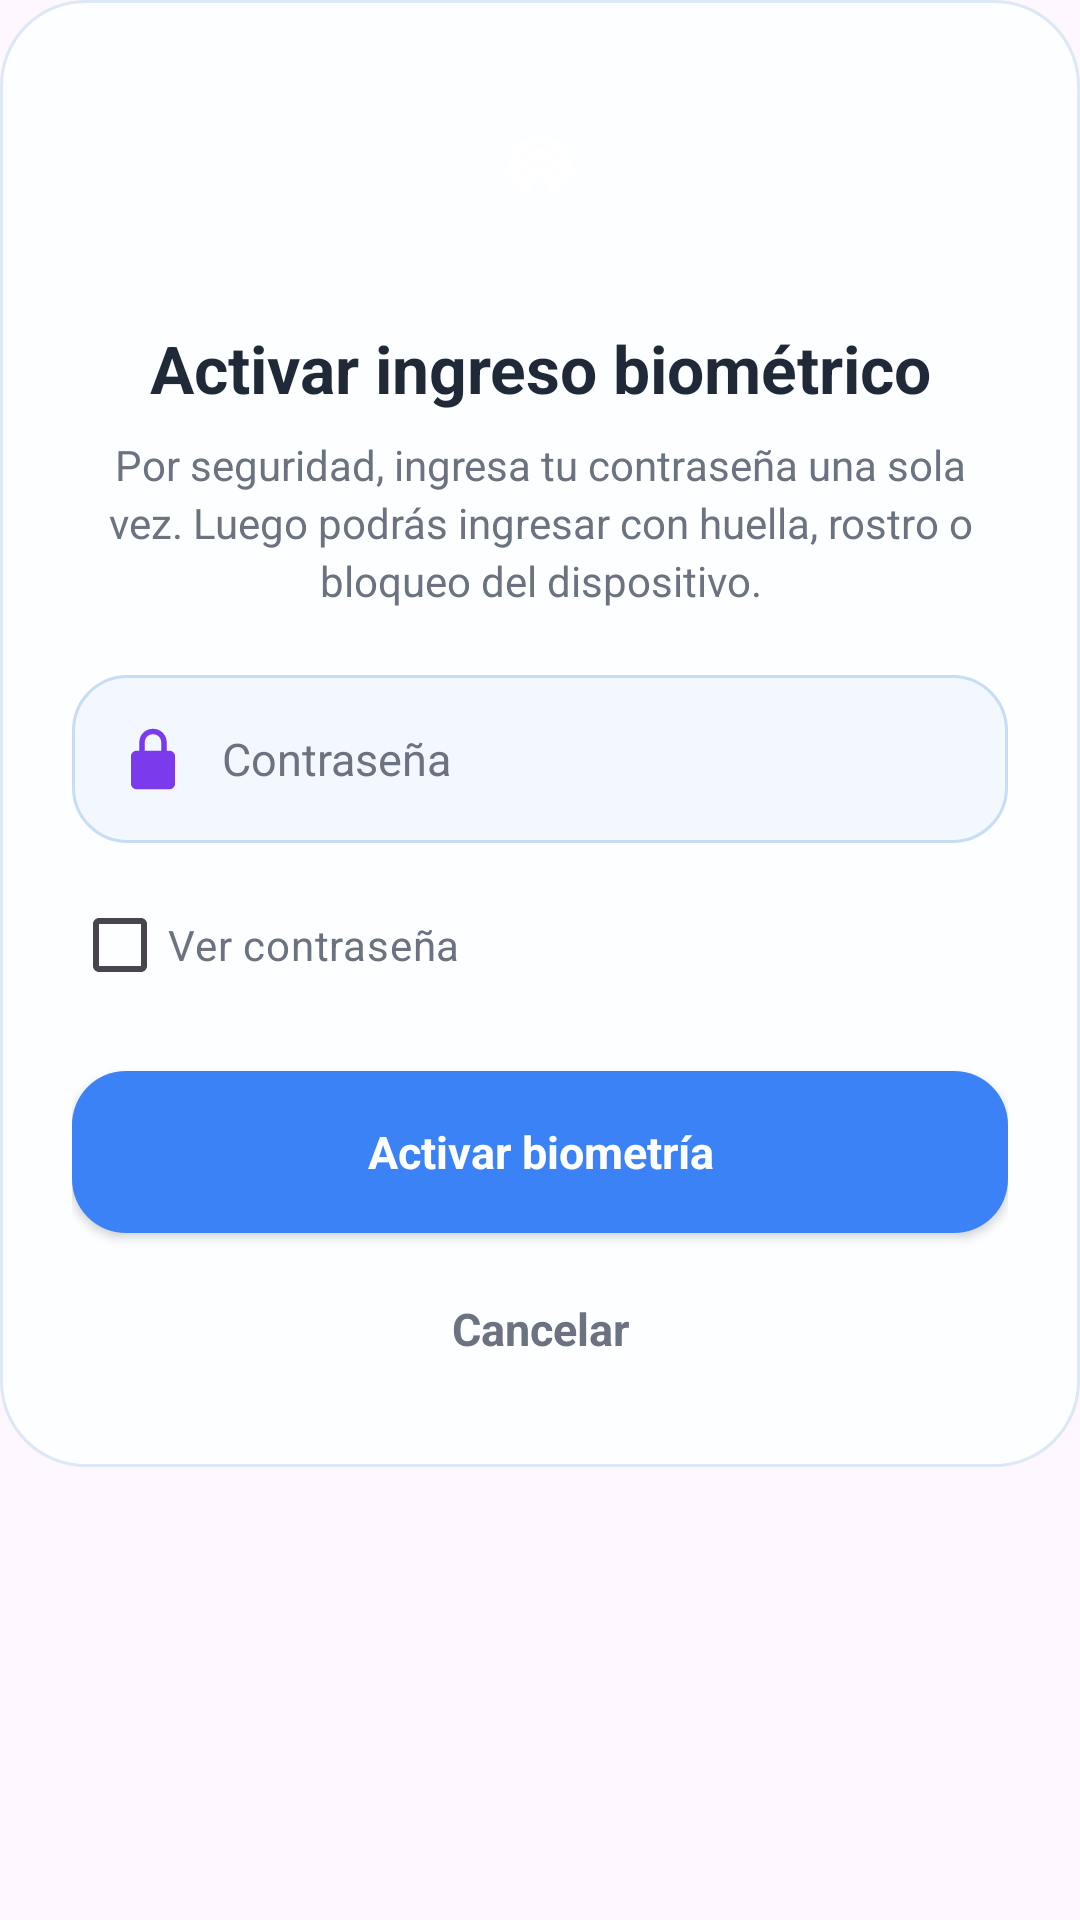

Named icons in this screenshot (1080×1920) and their bounding boxes, box=[x1, y1, x2, y2]:
lock: box=[131, 728, 175, 790]
